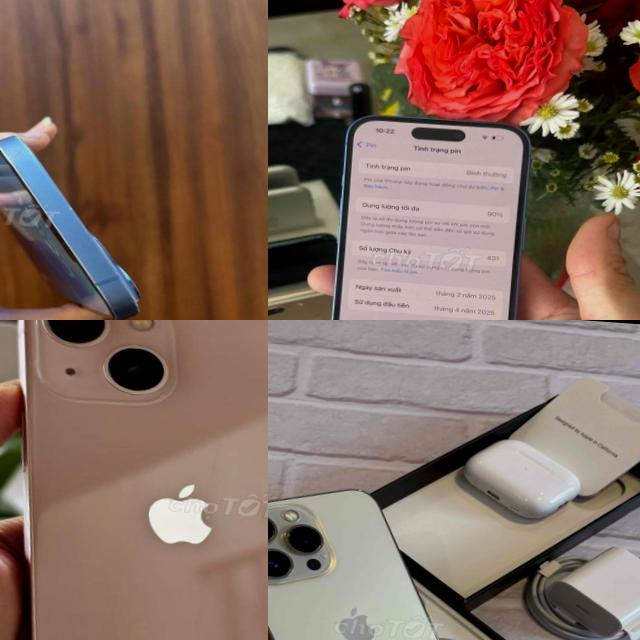gen_12_13: (0, 320, 268, 640), (268, 476, 494, 640)
gen_14: (0, 125, 151, 320)
gen_16: (332, 116, 529, 320)
